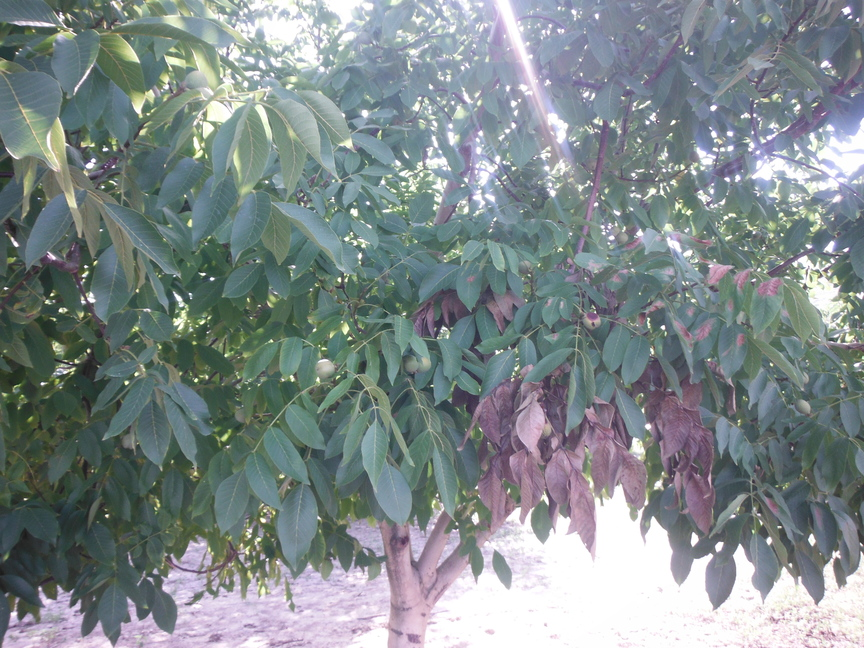walnut: (181, 66, 213, 95), (576, 305, 605, 332), (314, 356, 338, 382), (400, 349, 420, 377), (117, 431, 142, 453), (414, 353, 433, 377), (514, 256, 535, 277), (793, 397, 814, 416), (233, 403, 251, 425), (400, 16, 418, 38), (356, 29, 375, 49), (796, 367, 811, 387), (749, 228, 763, 243), (607, 222, 620, 238), (616, 229, 628, 246)
